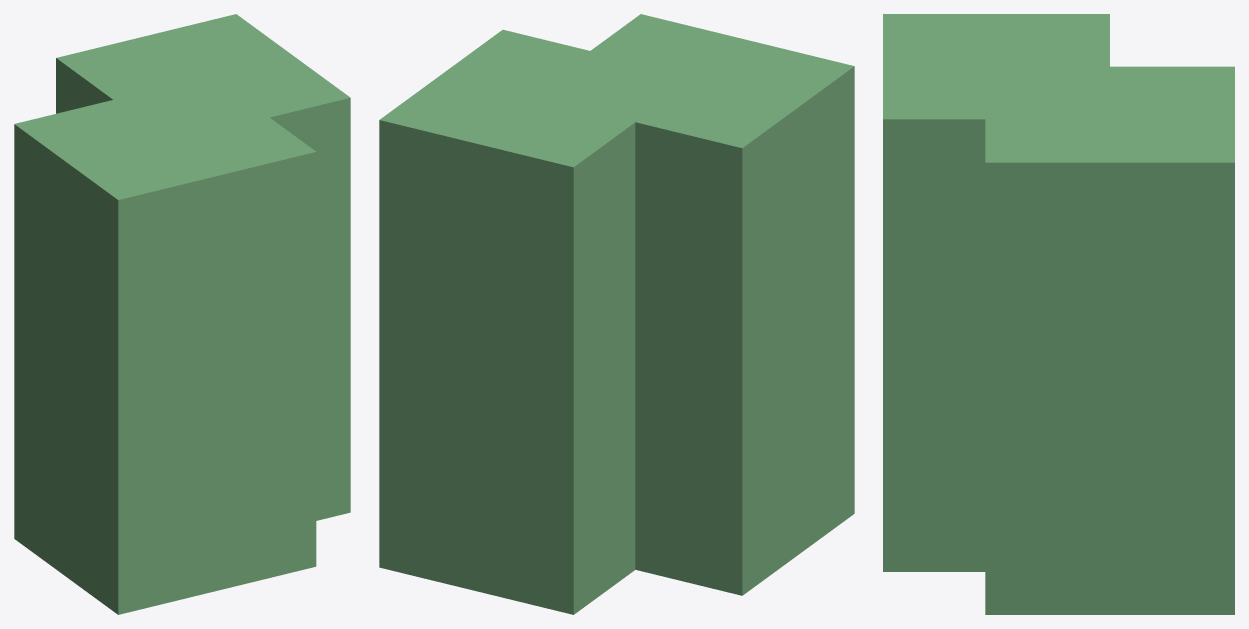
The model's file is fence_hedge_corner.glb.
3 renders of one model, left to right at view 1: azimuth 30°, elevation 25°; view 2: azimuth 150°, elevation 25°; view 3: azimuth 270°, elevation 25°, orthographic. The views are drawn at different scales.
Visible parts, largest first — view 1: fence_hedge_corner; view 2: fence_hedge_corner; view 3: fence_hedge_corner.
Boxes of the visible parts, bbox=[...] form: fence_hedge_corner: bbox=[14, 14, 350, 614]; fence_hedge_corner: bbox=[379, 14, 854, 614]; fence_hedge_corner: bbox=[883, 14, 1234, 614].
Size of the model in its own units: 0.775 by 1.1 by 0.775.
